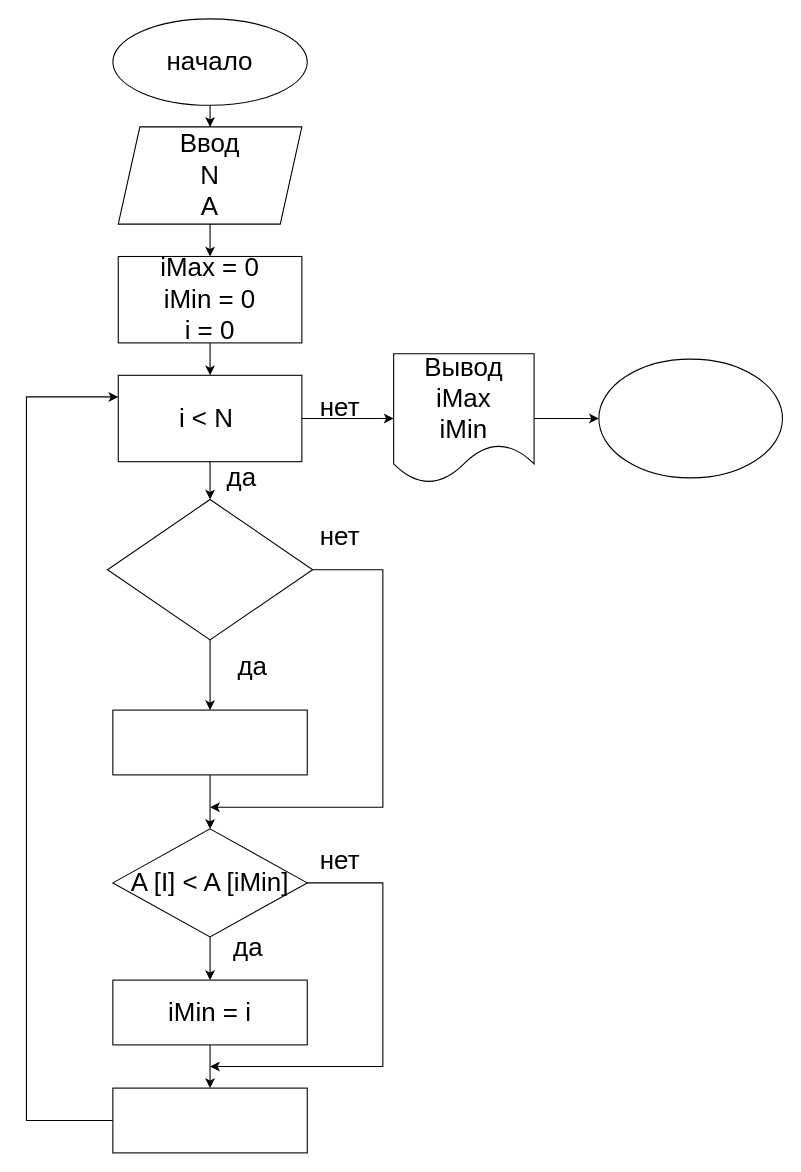
Image size: 801x1172. Some labels were removed from this diagram. Each missing label, with the centre of its shape:
A [i] > A [iMax]: (209,569)
i = i+1: (209,1120)
iMax = i: (209,742)
Завершение: (690,418)
